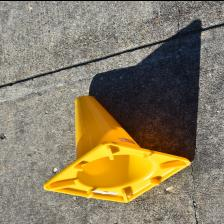cone: (43, 94, 191, 202)
